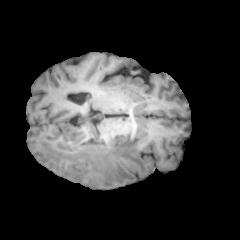glioma: (40, 131, 148, 187)
